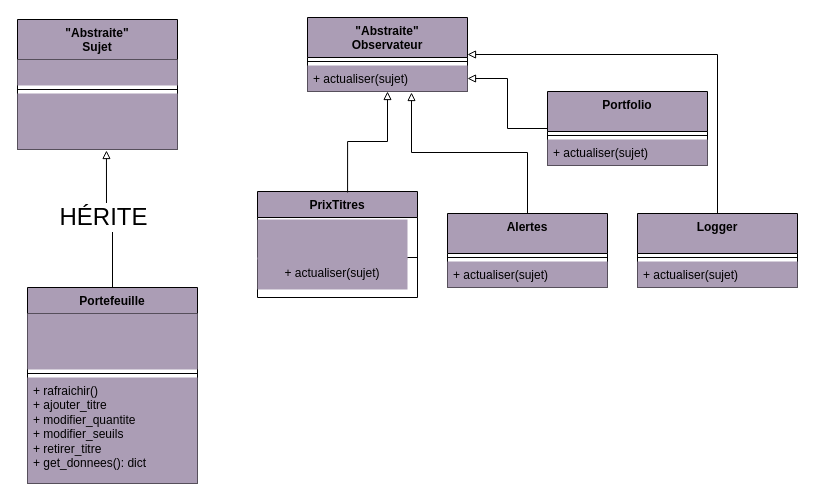
The diagram is 815 pixels wide and 504 high, and some of its shapes have lost their labels. The shapes that lost their labels are listed below. From the top down, each one's centre as x and y in pixels, then its label:
point (97, 72): # _observateurs: list
point (97, 121): + abonner(obs) + desabonner(obs) + notifier()
point (332, 239): - labels_prix
point (112, 341): - titres : dict - prix_actuels : dict
